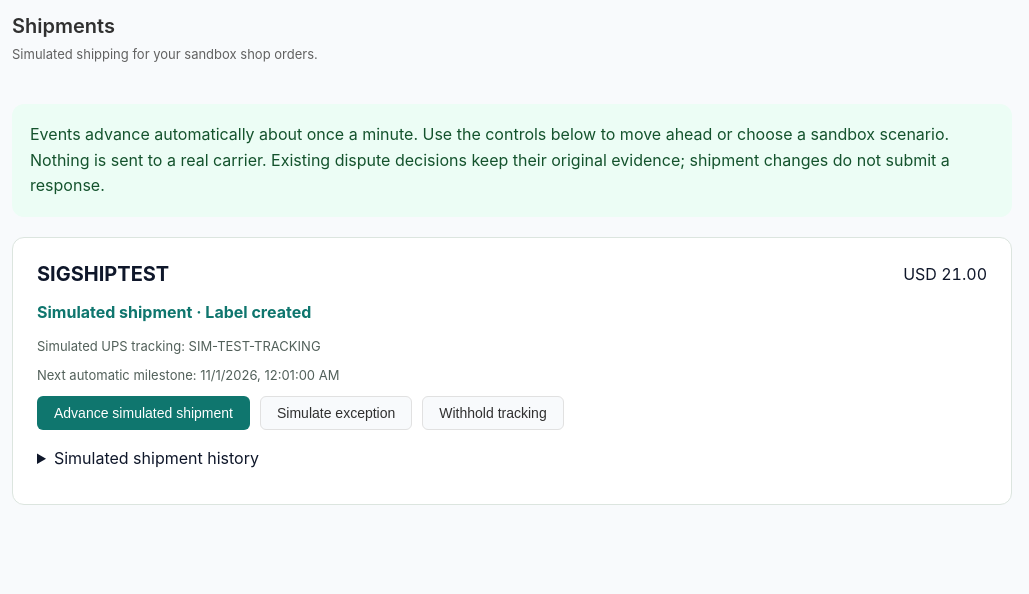
Merchant simulated shipments › shows failed writes as failures and refreshes the authoritative state
What coordinates should you click on to do the following:
click the button "Advance simulated shipment"
I would click on:
 (144, 413)
Its box is [37, 396, 250, 430].
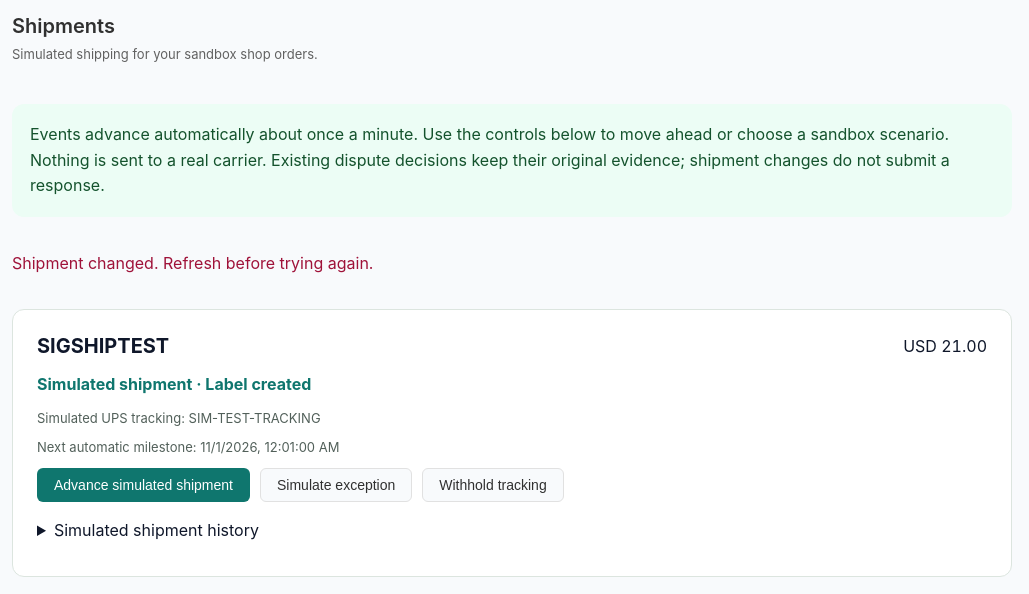
Result: the message shows "Shipment changed" at [12, 253, 373, 273]
